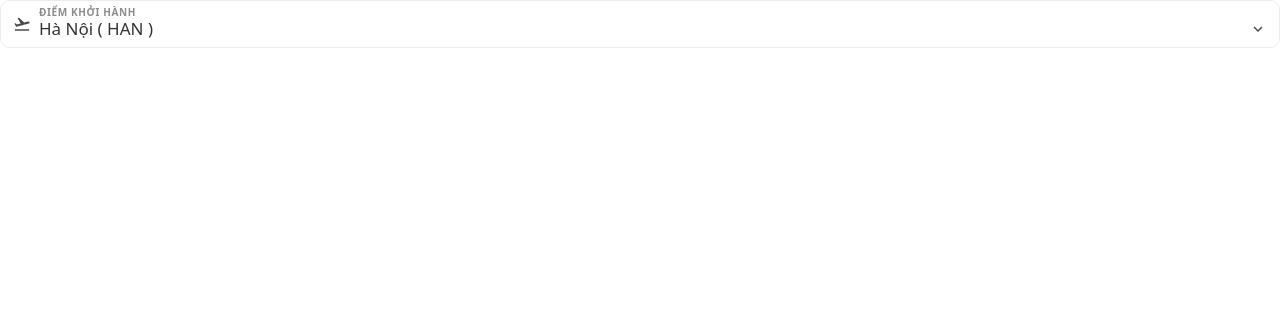
AirportPicker › tells the customer how many airports there are, and how many matched
The image size is (1280, 311).
Click the button with aria-label "Điểm khởi hành" at x=66, y=28, box [39,17,1267,41]
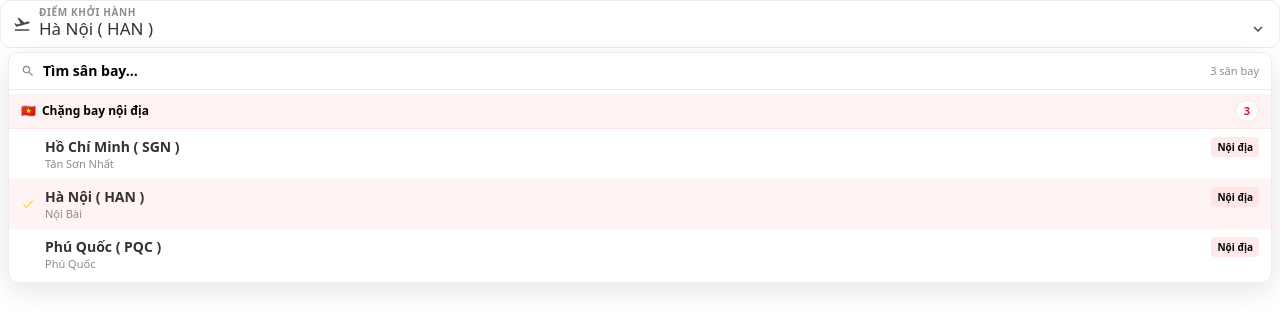
Check: the text "3 sân bay" is shown, box [1210,63,1259,79]
Type "quoc" into the field named "Tìm điểm khởi hành" at x=623, y=71, box [43,61,1202,81]
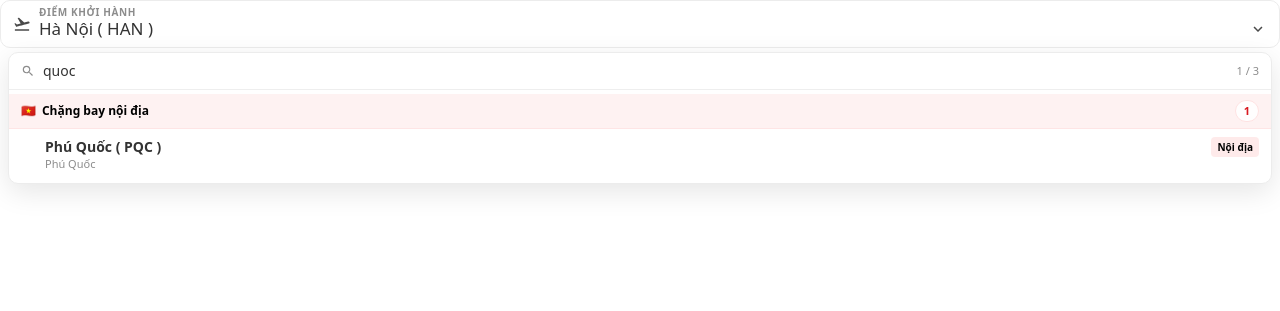
Check: the text "1 / 3" is shown, box [1237,63,1259,79]
